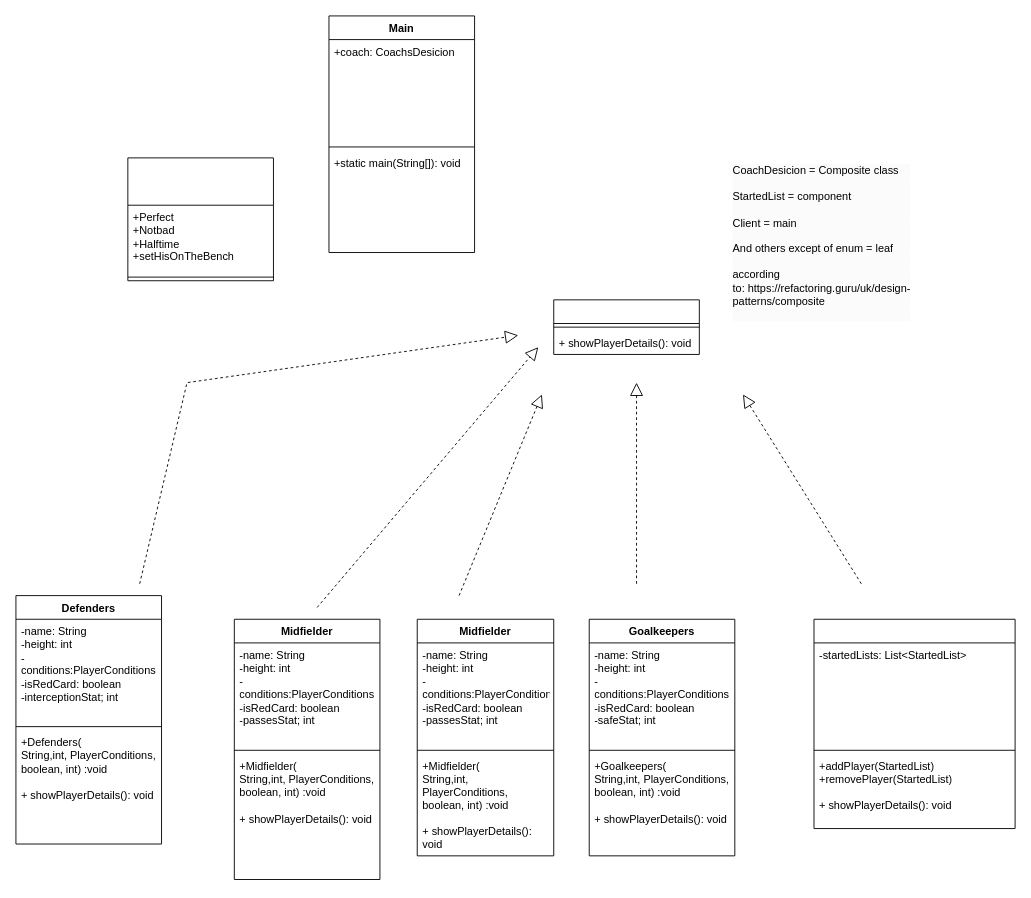
The diagram is 1031 pixels wide and 898 high, and some of its shapes have lost their labels. Here are the shapes that lost their labels. From the top down, the box of each, then its label:
(127, 157, 273, 281): <<enumeration>> PlayerConditions
(553, 299, 699, 354): StartedList
(813, 618, 1015, 829): CoachsDesicion
